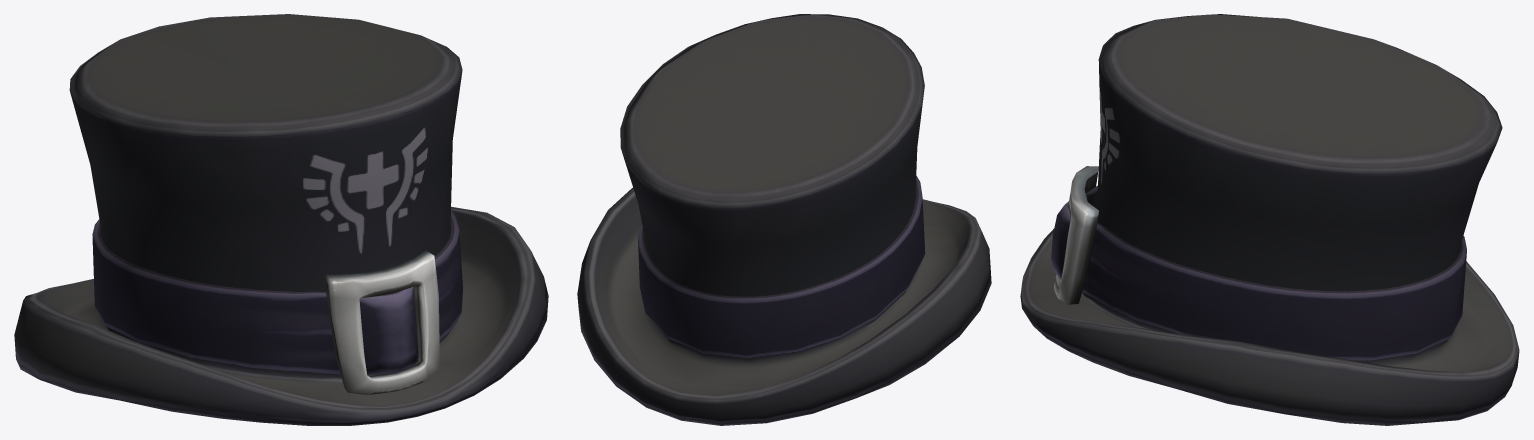
3 views of the same model, side by side, from view 1: azimuth 30°, elevation 25°; view 2: azimuth 150°, elevation 25°; view 3: azimuth 270°, elevation 25° (orthographic). The views are drawn at different scales.
Parts seen in each view (by area): view 1: Wolf3D_Headwear; view 2: Wolf3D_Headwear; view 3: Wolf3D_Headwear.
Part boxes in pixels (x1,y1,x2,y2): Wolf3D_Headwear: (14,14,548,425); Wolf3D_Headwear: (577,14,991,425); Wolf3D_Headwear: (1020,14,1519,425).
Size of the model in its own units: 0.268 by 0.1956 by 0.2732.
Materials: 1 (1 with a texture image).
